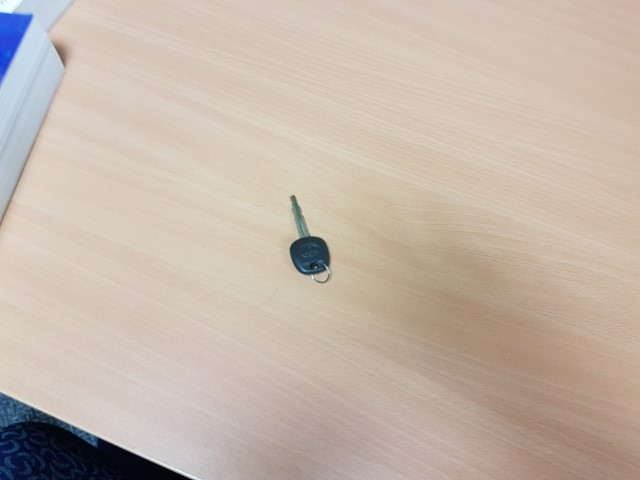key: (289, 195, 330, 275)
